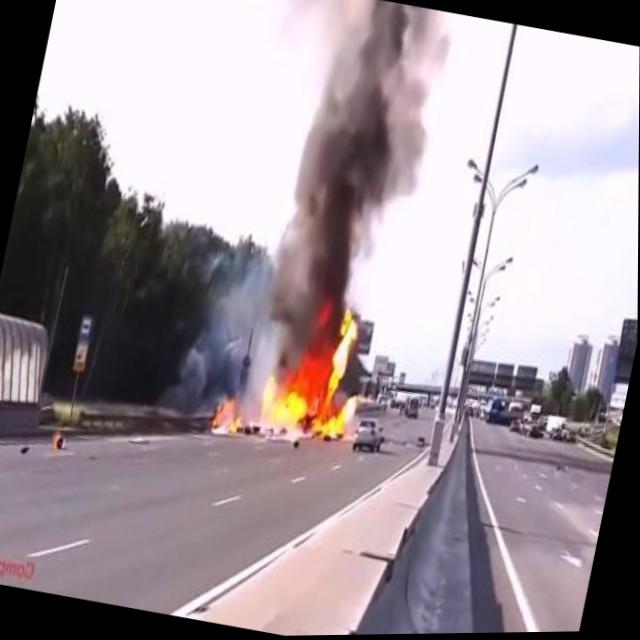fire: (248, 294, 378, 455)
